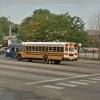Bus: (13, 36, 79, 66)
